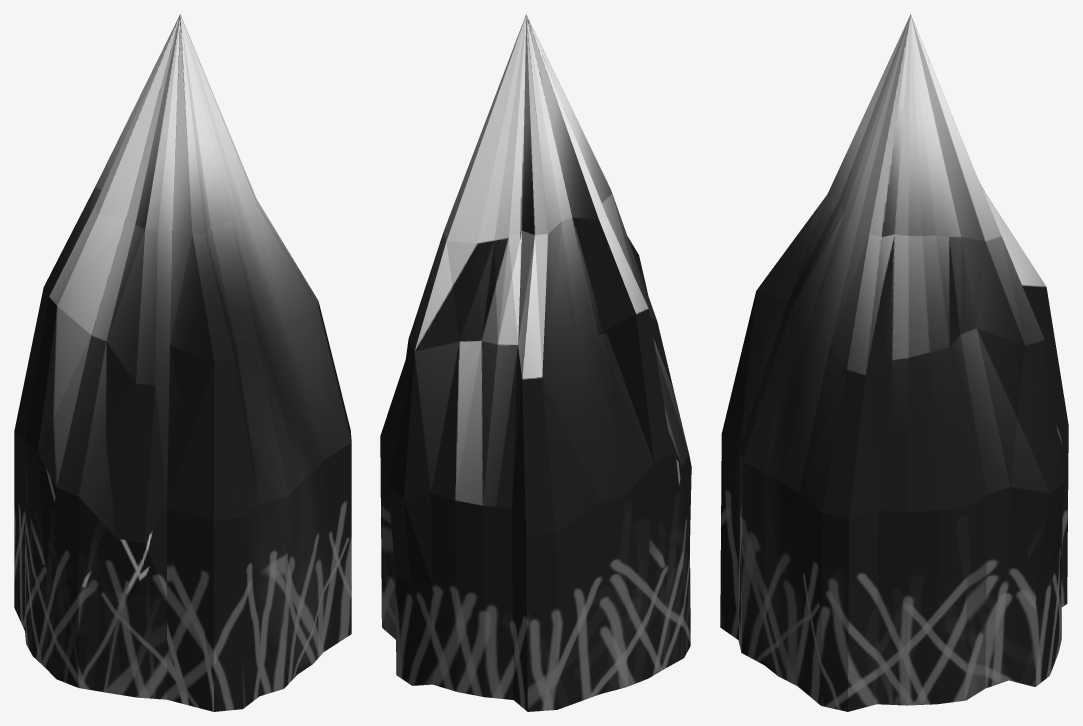
The model's file is ship.obj.
The picture shows the model from 3 angles, left to right: view 1: azimuth 30°, elevation 25°; view 2: azimuth 150°, elevation 25°; view 3: azimuth 270°, elevation 25°; orthographic projection.
Size of the model in its own units: 1.29 by 2.74 by 1.35.
Materials: 1 (1 with a texture image).
